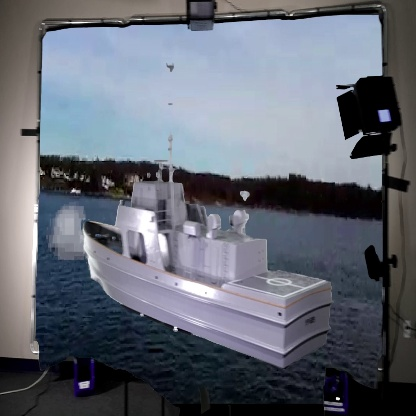YP689: (80, 47, 333, 369)
